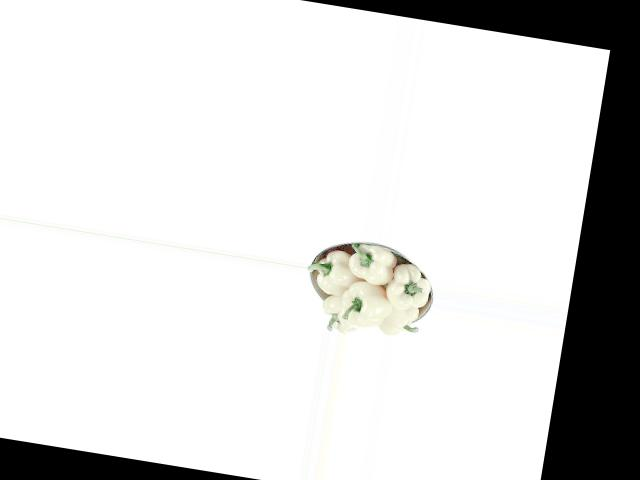bell_pepper: (314, 288, 362, 334)
